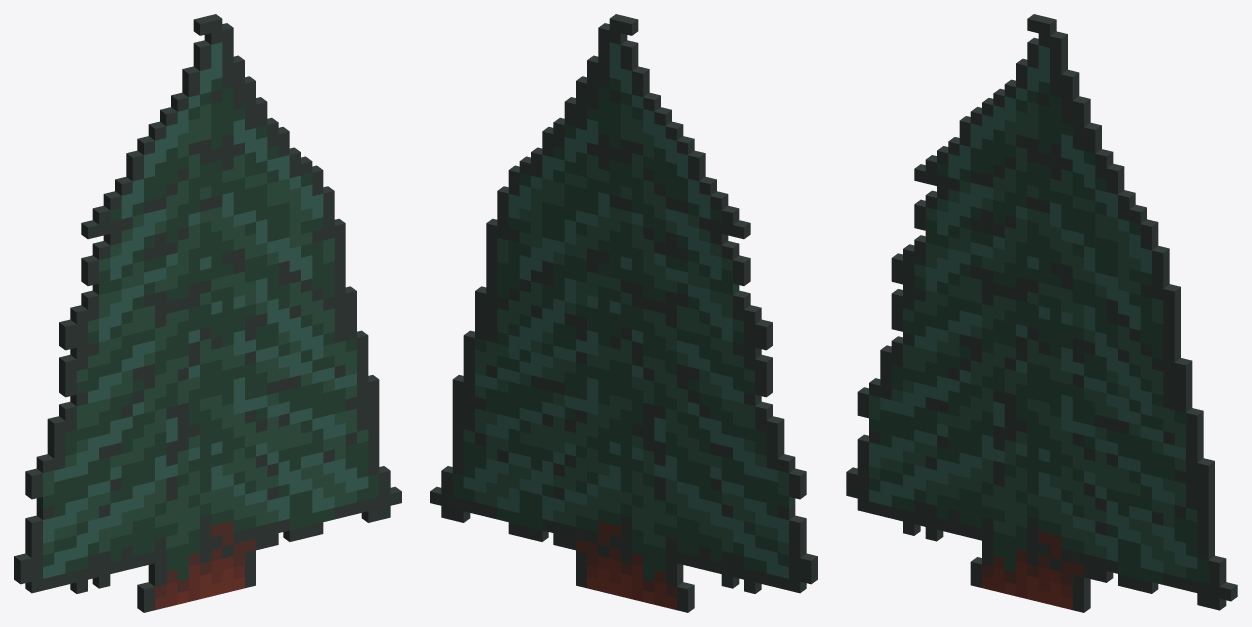
Rendered from wall_life.obj.
3 views of the same model, side by side, from view 1: azimuth 30°, elevation 25°; view 2: azimuth 150°, elevation 25°; view 3: azimuth 330°, elevation 25° (orthographic).
Parts seen in each view (by area): view 1: wall_life; view 2: wall_life; view 3: wall_life.
Boxes of the visible parts, x1=… form: wall_life: x1=14, y1=14, x2=401, y2=612; wall_life: x1=430, y1=14, x2=817, y2=612; wall_life: x1=846, y1=14, x2=1237, y2=612.
Size of the model in its own units: 34 by 49 by 1.
Materials: 1 (1 with a texture image).
